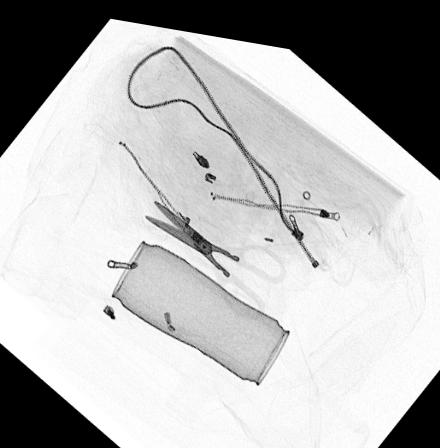Scissors: (137, 187, 289, 314)
